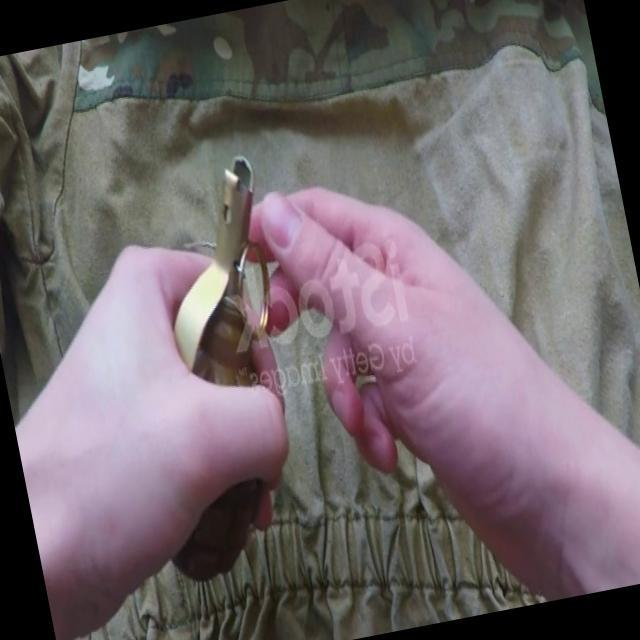grenade: (98, 143, 326, 582)
